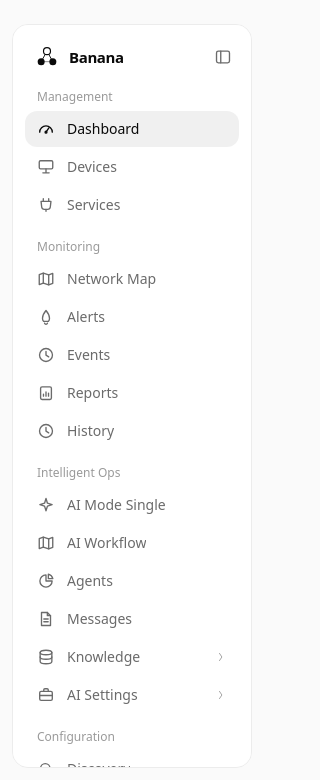
Test: Sidebar › shows every Knowledge page once the knowledge base is on
The width and height of the screenshot is (320, 780).
Click the button "Knowledge" at (132, 657), box [25,639,239,675]
(page scrolled)
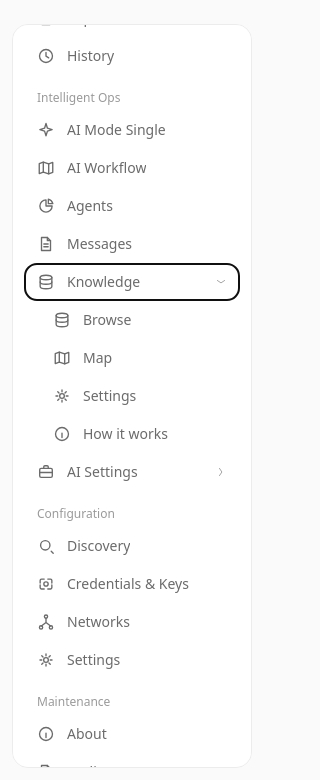
expect the link to "/ai/knowledge" is shown: met, box [53,310,131,329]
expect the link to "/ai/knowledge/learn" is shown: met, box [53,424,168,443]
expect the link to "/ai/knowledge/settings" is shown: met, box [53,386,136,405]
